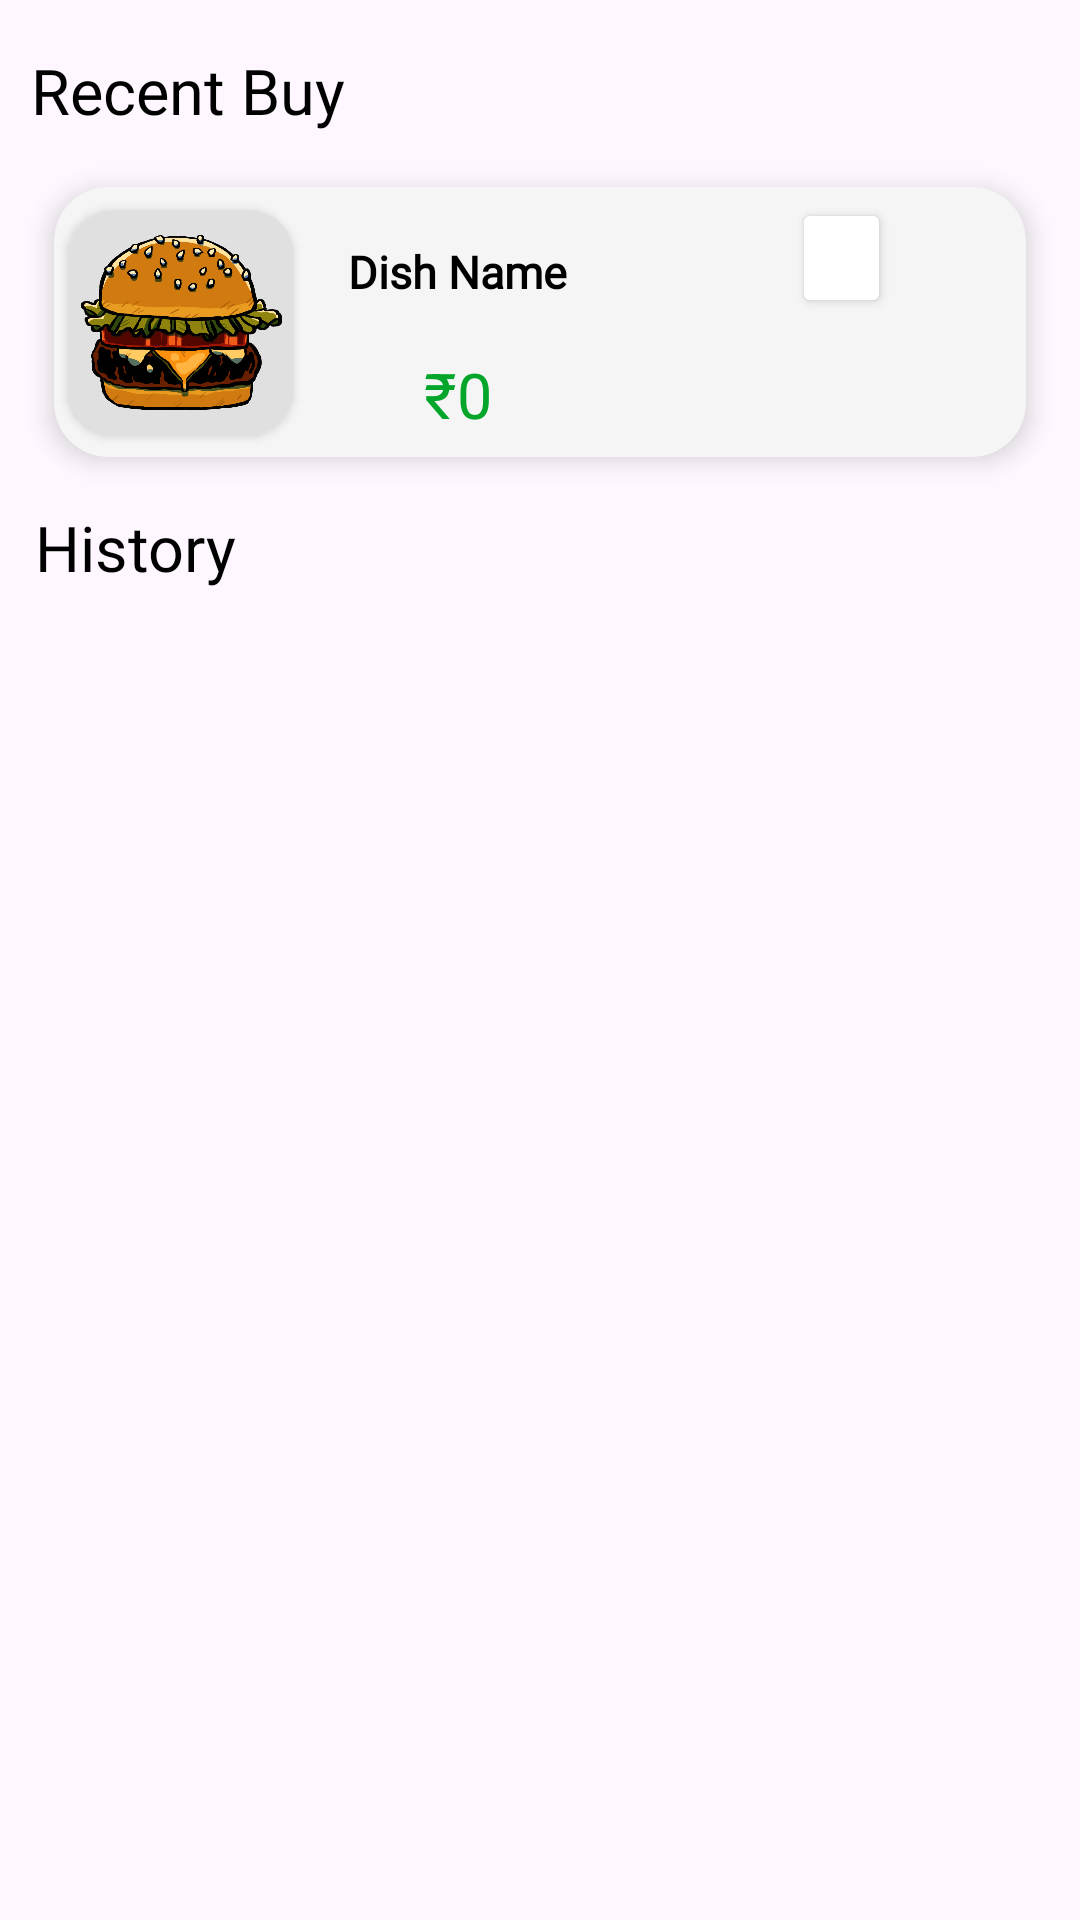

Where icons sit on this 1080 × 1920 app screen, as {"left": x1, "top": y1, "right": x2, "bottom": y2}:
burger: {"left": 81, "top": 235, "right": 282, "bottom": 428}
